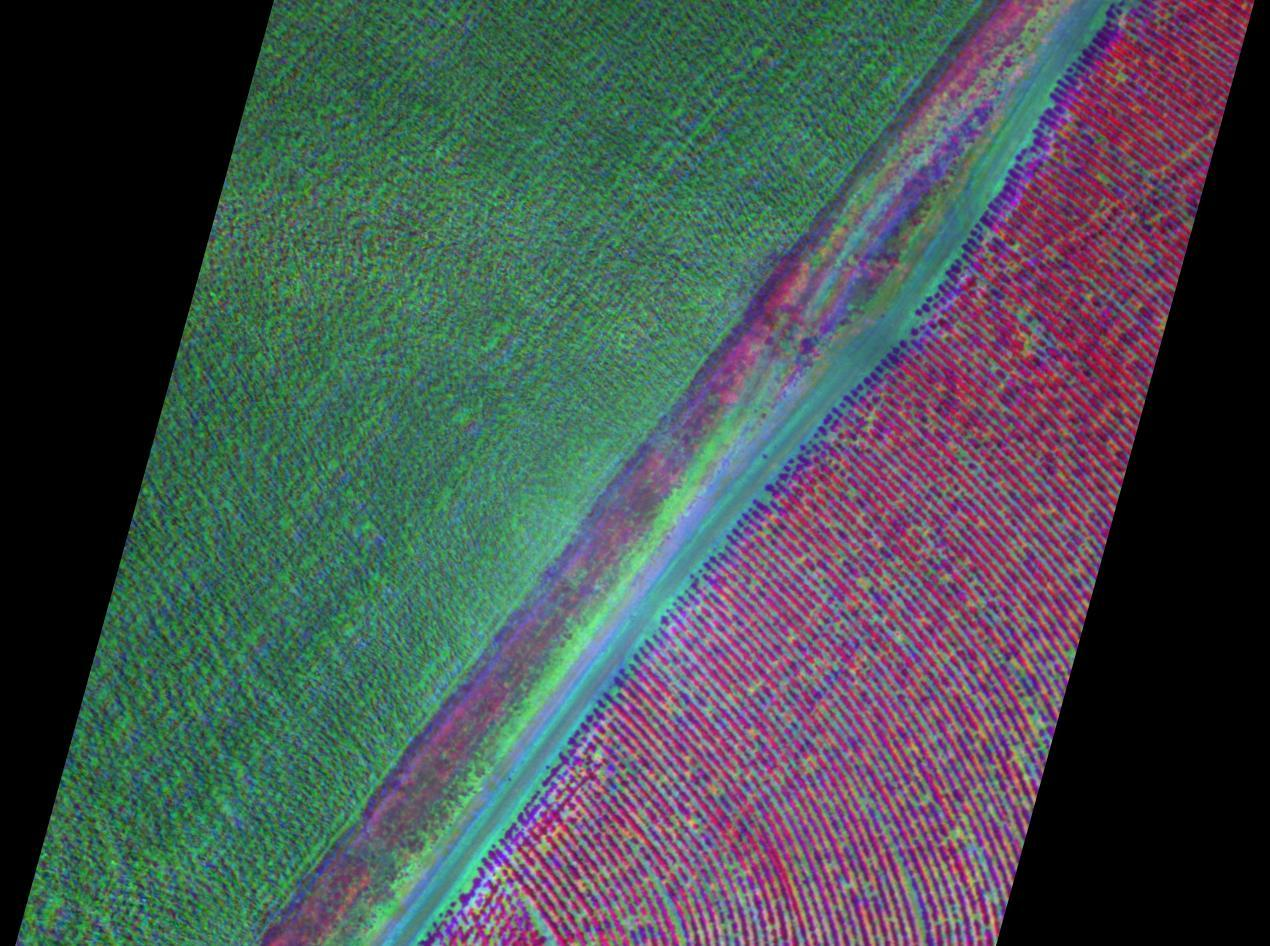dc: (626, 835, 704, 946), (933, 820, 1006, 911), (501, 855, 569, 946), (993, 643, 1063, 730), (998, 288, 1064, 363)
